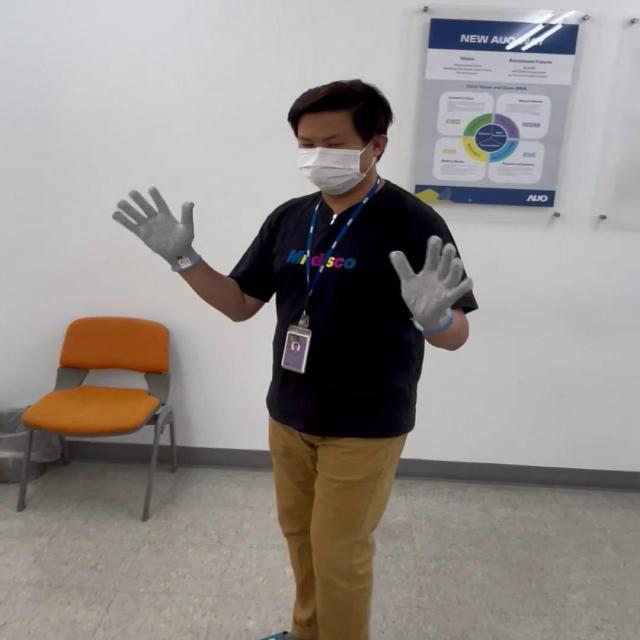gloved_hand: (119, 179, 216, 275), (386, 232, 465, 338)
